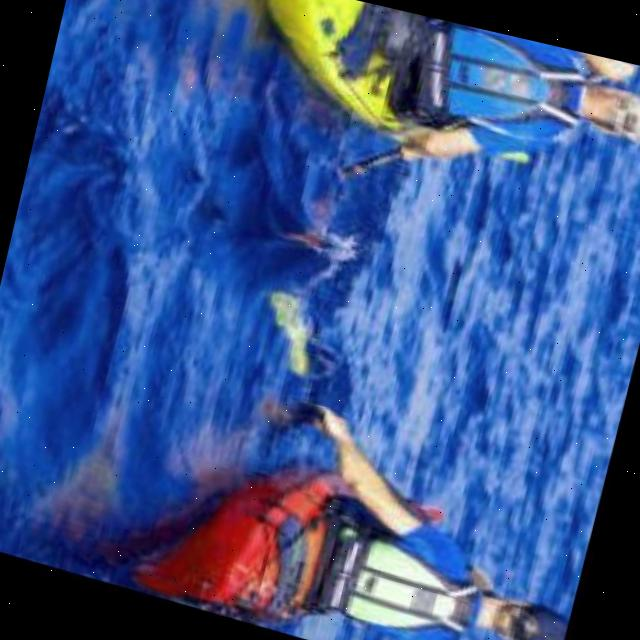kayak: (140, 483, 336, 615), (272, 0, 403, 132)
